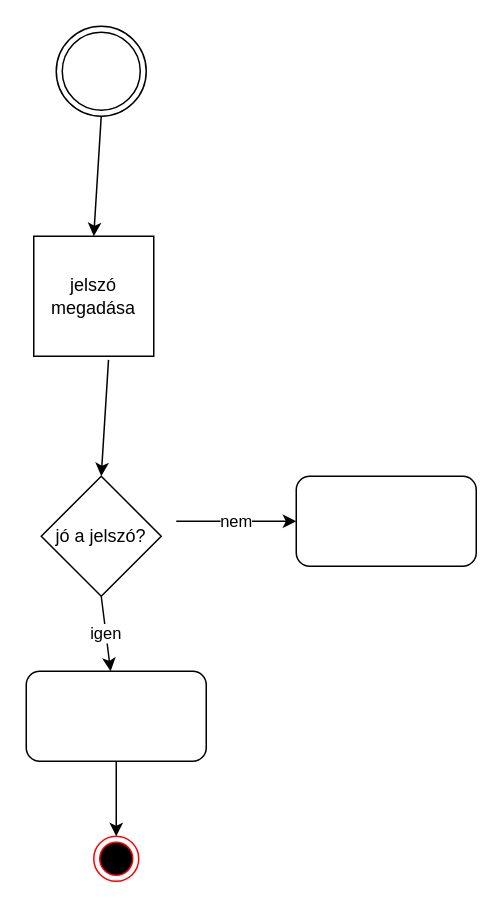
Image size: 503x908. Some labels were removed from this diagram. The centre of each missing label's shape, as x and y in pixels:
hibás jelszó: pixel 385 520
Üdvözlő szöveg kiírása: pixel 115 715
